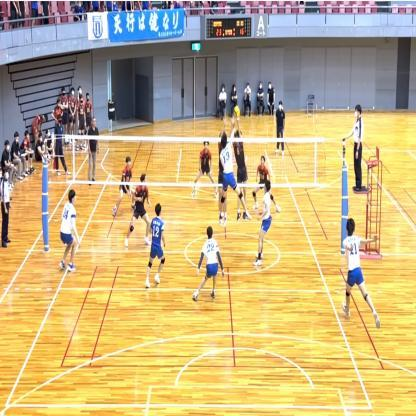spike: (219, 106, 254, 229)
